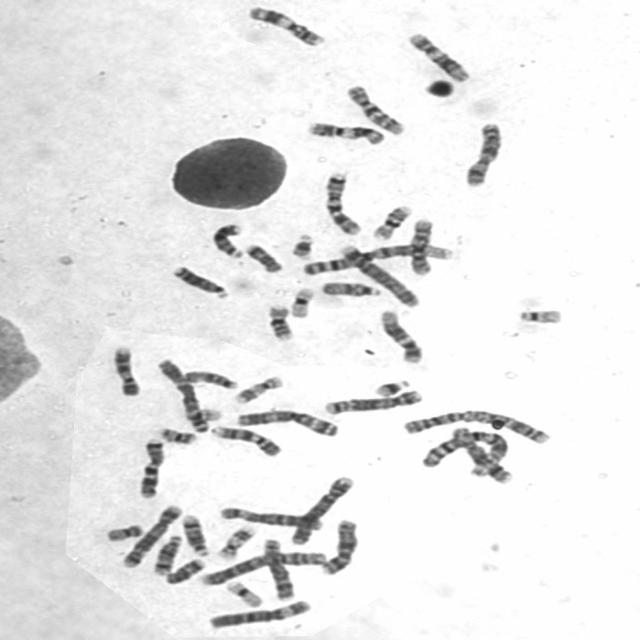A1: (300, 244, 454, 278), (420, 431, 509, 478)
A2: (403, 410, 549, 446), (201, 551, 326, 587)
A3: (156, 358, 210, 432), (233, 408, 339, 438)
B4: (335, 245, 420, 308), (290, 475, 354, 545)
B5: (122, 504, 182, 568), (322, 389, 424, 415)
C10: (344, 84, 407, 136), (408, 220, 437, 277)
C11: (246, 6, 330, 50), (307, 121, 386, 146)
C12: (406, 32, 472, 83), (377, 309, 425, 365)
C6: (210, 599, 311, 630), (217, 505, 323, 531)
C7: (325, 172, 363, 236), (138, 438, 165, 500)
C8: (450, 426, 512, 485), (261, 538, 296, 601)
C9: (210, 425, 282, 457), (111, 346, 141, 398)
D13: (170, 266, 231, 301), (210, 223, 247, 260)
D14: (180, 514, 210, 557), (152, 535, 181, 576)
D15: (318, 281, 384, 299), (183, 370, 239, 390)
E16: (370, 204, 413, 243), (266, 304, 294, 342)
E17: (215, 524, 257, 561), (232, 375, 284, 404)
E18: (243, 243, 283, 274), (163, 558, 206, 585)
F19: (224, 580, 265, 609), (288, 287, 315, 319)
F20: (105, 522, 146, 544), (160, 427, 198, 445)
G21: (371, 378, 410, 398), (289, 234, 317, 258)
G22: (513, 307, 564, 326), (183, 408, 224, 422)
X: (462, 122, 504, 188), (322, 518, 360, 576)
